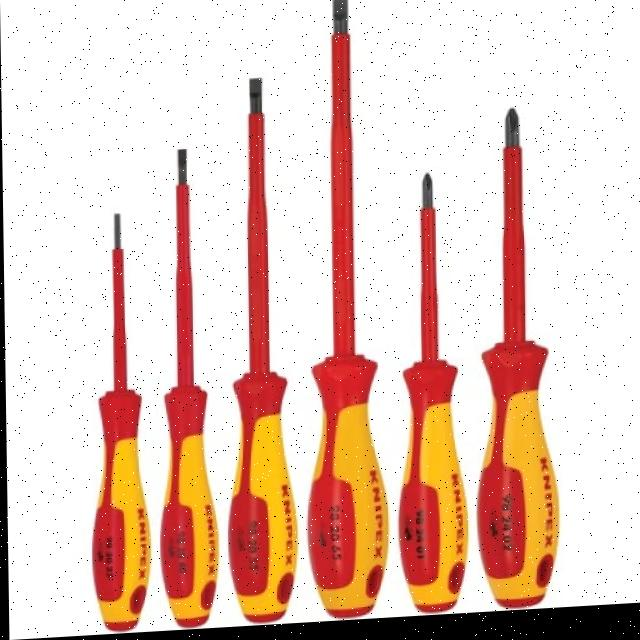Screwdriver: (307, 3, 386, 621), (477, 115, 557, 613), (228, 82, 295, 625), (398, 179, 465, 617), (159, 152, 216, 628), (90, 216, 149, 633)
